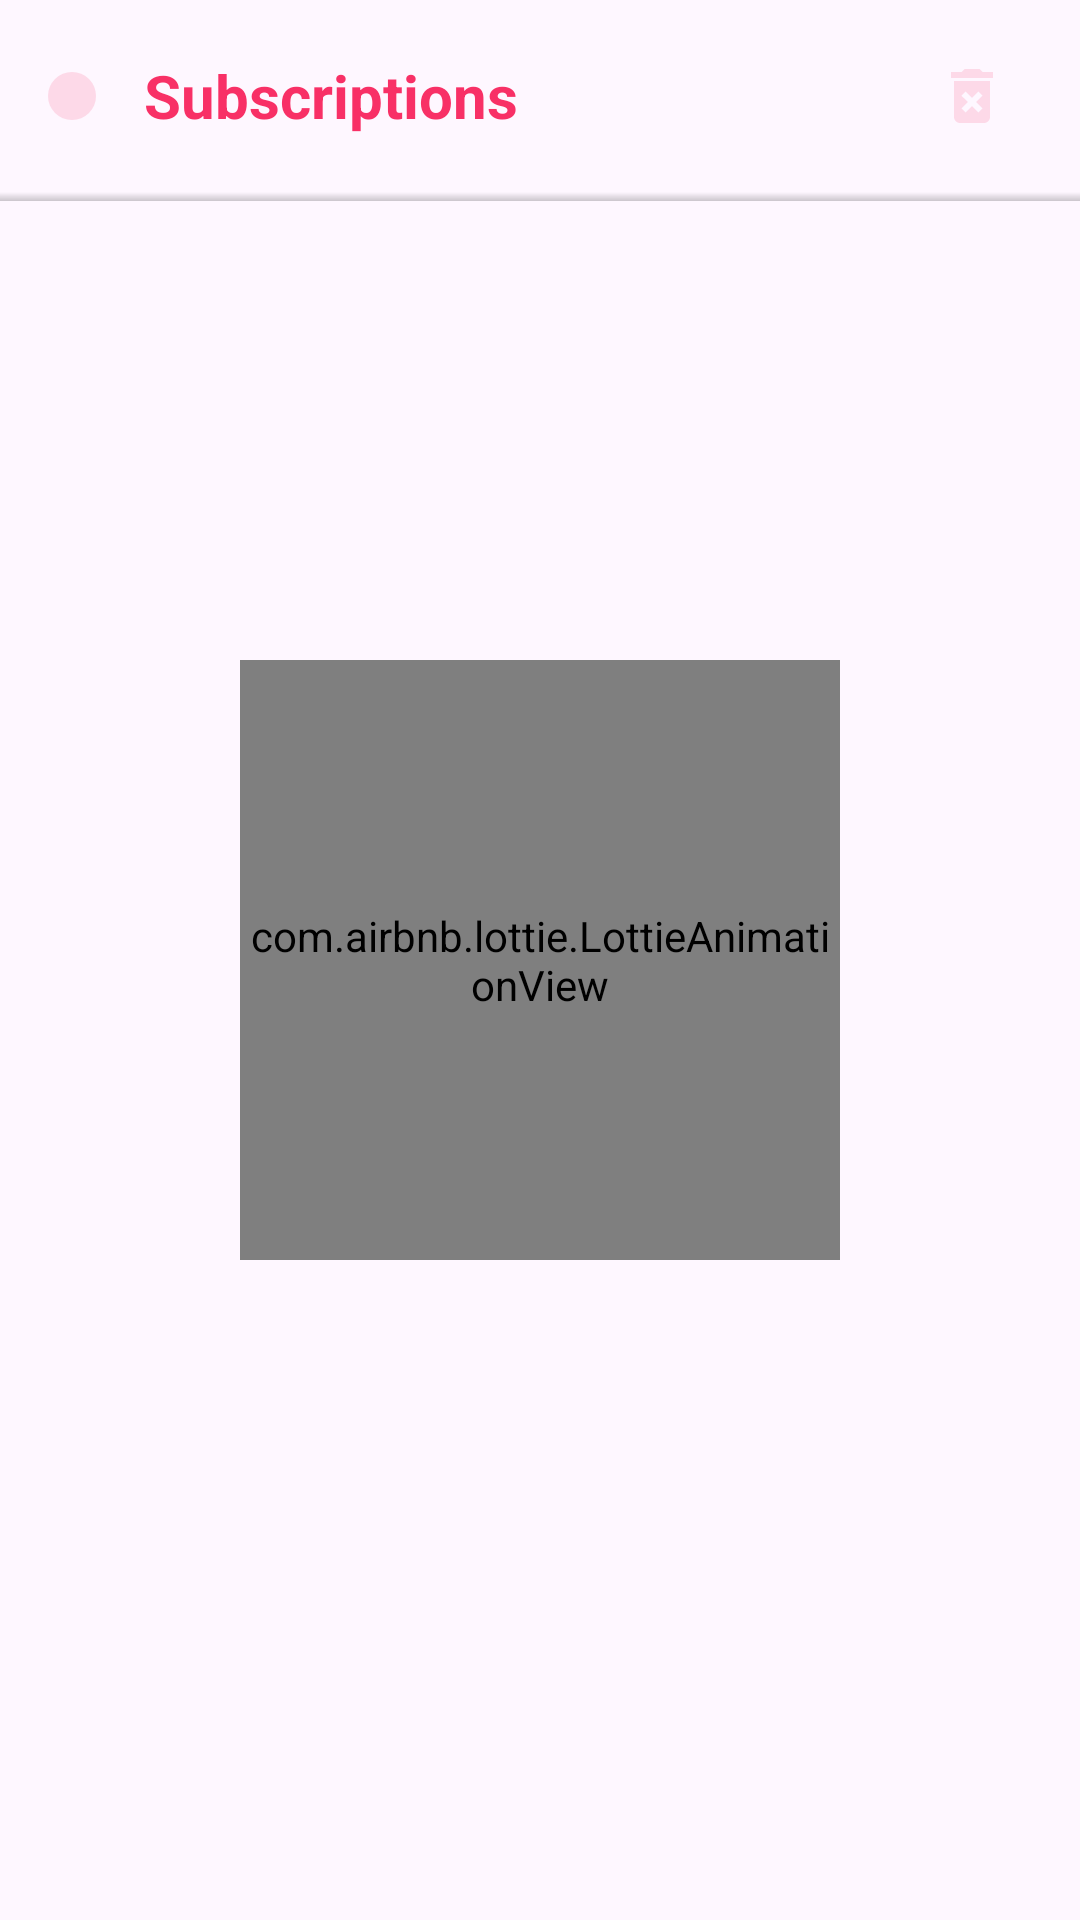

Icons on this 1080 × 1920 Android screen, each with its box as (x1, y1, x2, y2):
delete: (951, 69, 993, 123)
